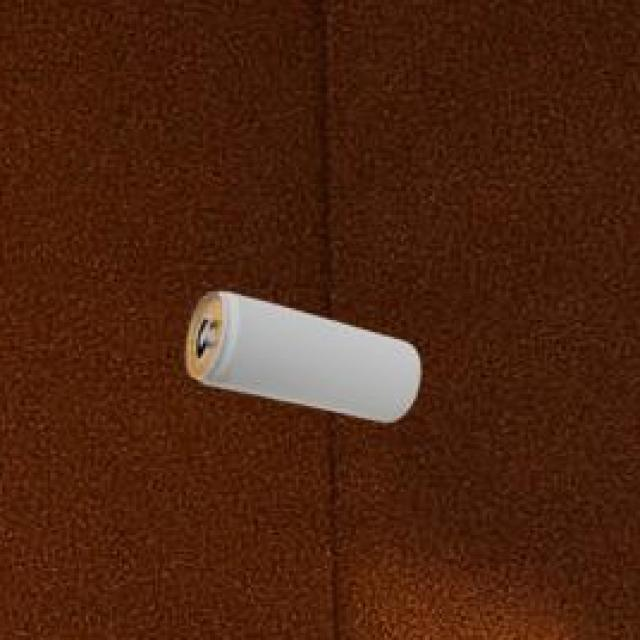logam: (183, 295, 417, 426)
